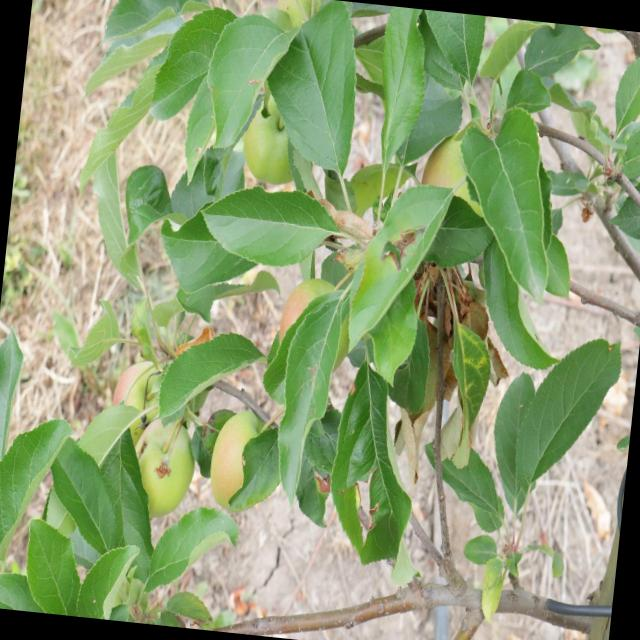-FireBlight-: (413, 267, 497, 339)
